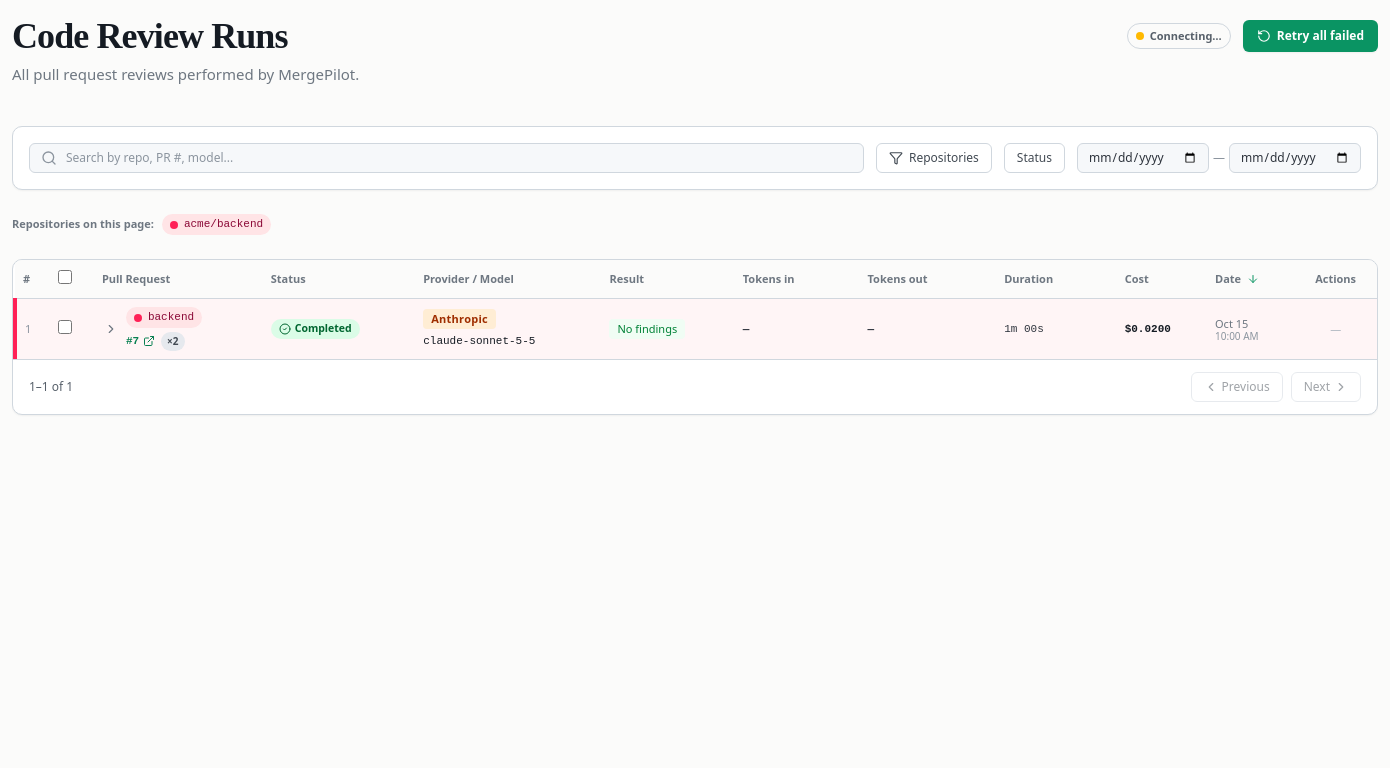
it: bot chip on runs › shows every sub-row of a PR reviewed by several bots, the main one as MergePilot
The width and height of the screenshot is (1390, 768).
Click the button named "Show the runs of acme/backend#7" at (111,329), box [102,320,120,338]
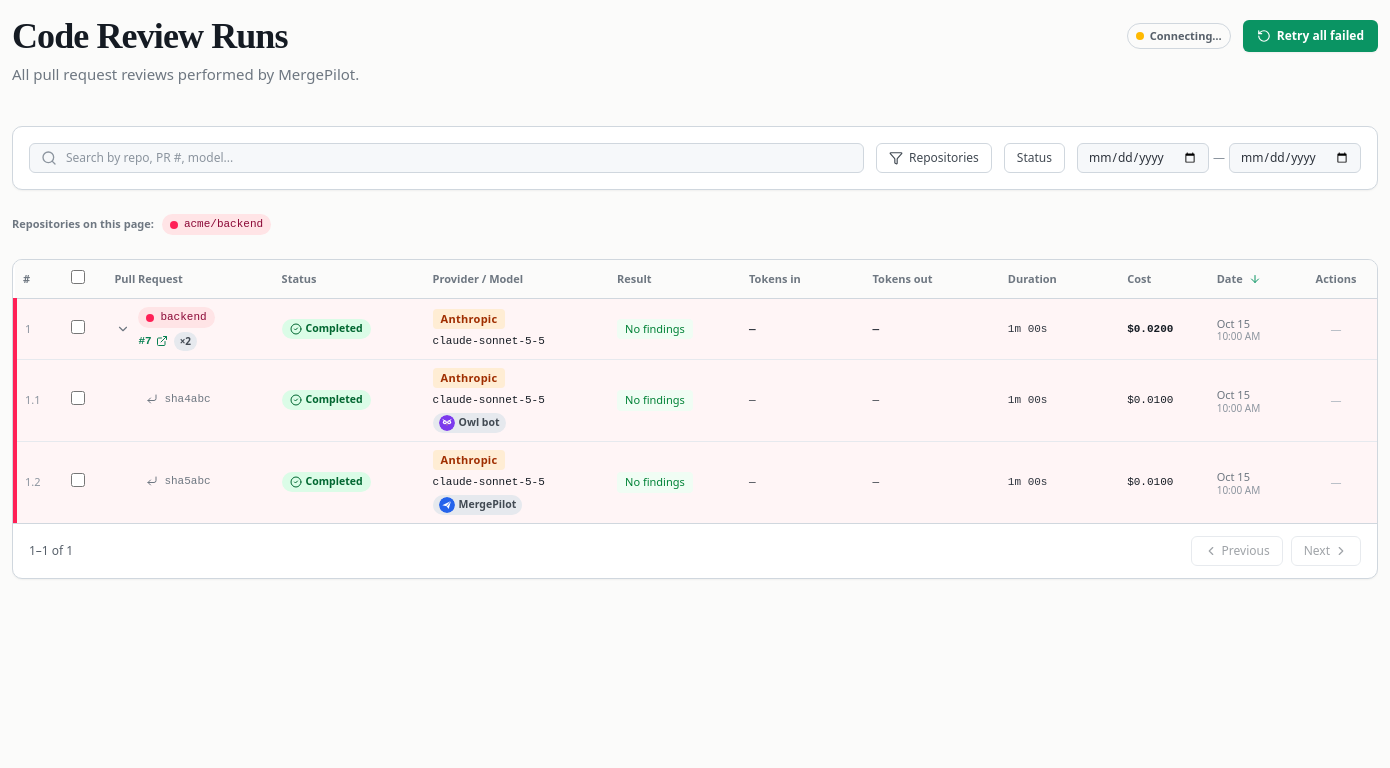
Result: the elements with test id "run-bot-chip" read "Owl bot", "MergePilot", in this order at [433,413,506,433]; [433,495,522,515]
